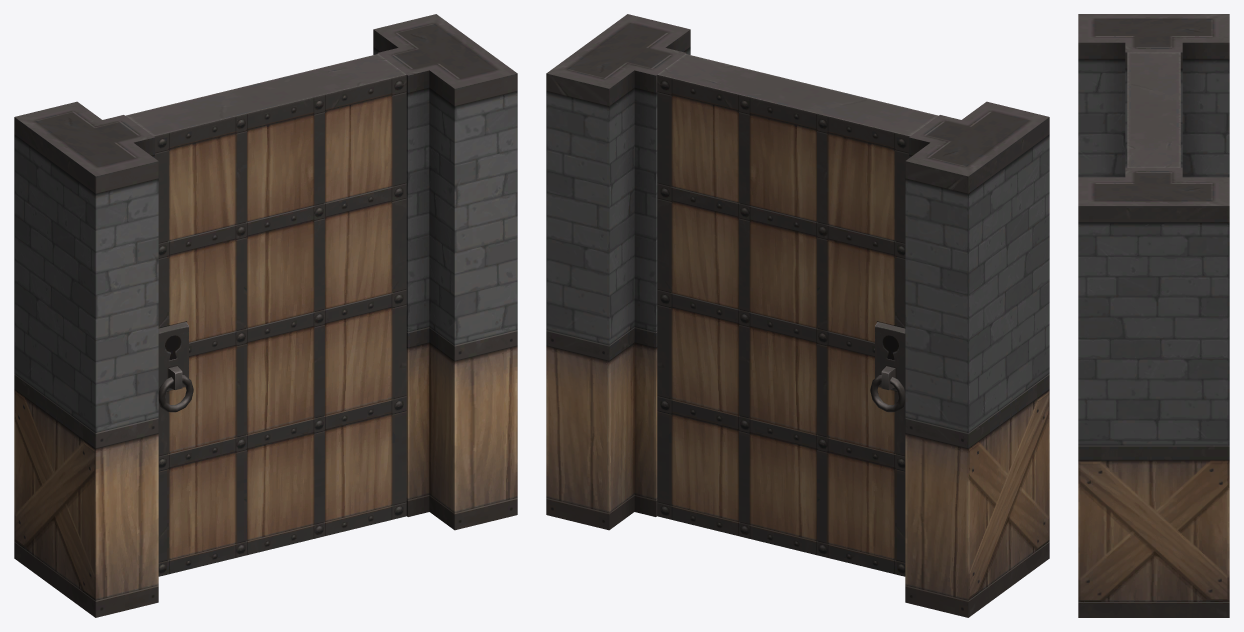
The model's file is F16_DOOR_01T.obj.
3 views of the same model, side by side, from view 1: azimuth 30°, elevation 25°; view 2: azimuth 150°, elevation 25°; view 3: azimuth 270°, elevation 25° (orthographic). The views are drawn at different scales.
Parts seen in each view (by area): view 1: F14_DOOR_01T; view 2: F14_DOOR_01T; view 3: F14_DOOR_01T.
Part boxes in pixels (x1,y1,x2,y2): F14_DOOR_01T: (14, 14, 517, 617); F14_DOOR_01T: (546, 14, 1049, 617); F14_DOOR_01T: (1078, 14, 1229, 617).
Size of the model in its own units: 3 by 3 by 1.
3 materials, 2 textured.
